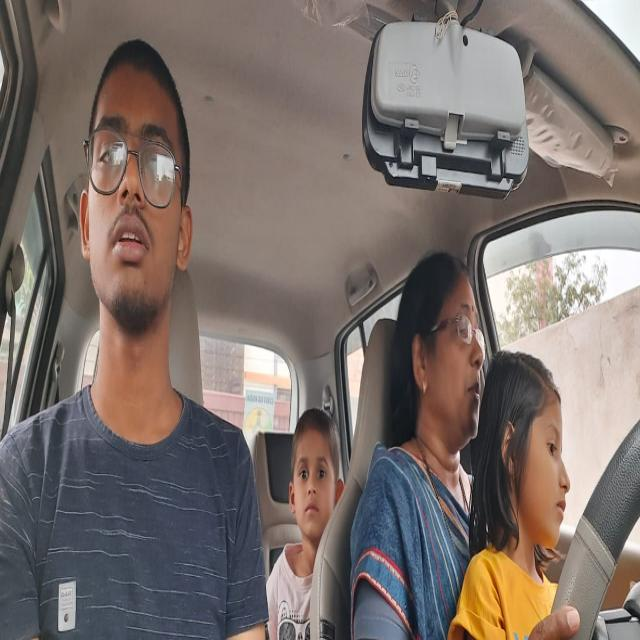child: (499, 370, 572, 552)
person: (78, 42, 196, 326), (406, 253, 481, 450), (288, 409, 343, 544)
